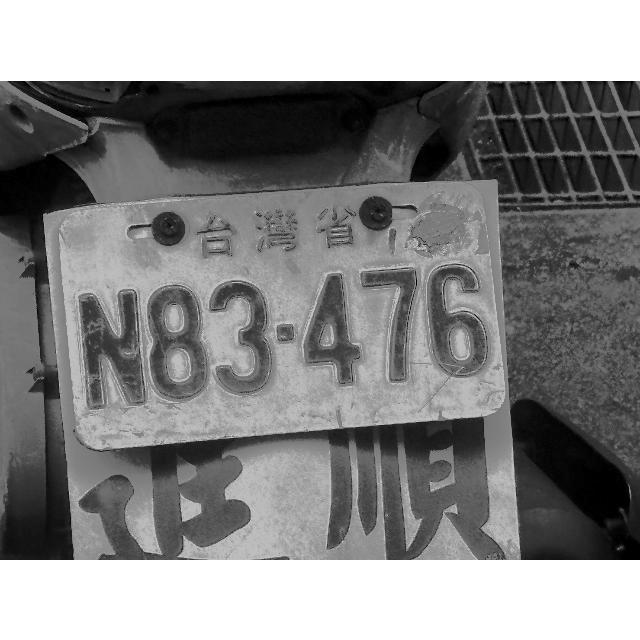-: (276, 319, 296, 345)
3: (208, 278, 274, 402)
6: (424, 260, 492, 388)
7: (361, 263, 423, 389)
8: (146, 281, 208, 401)
N: (76, 288, 148, 410)
